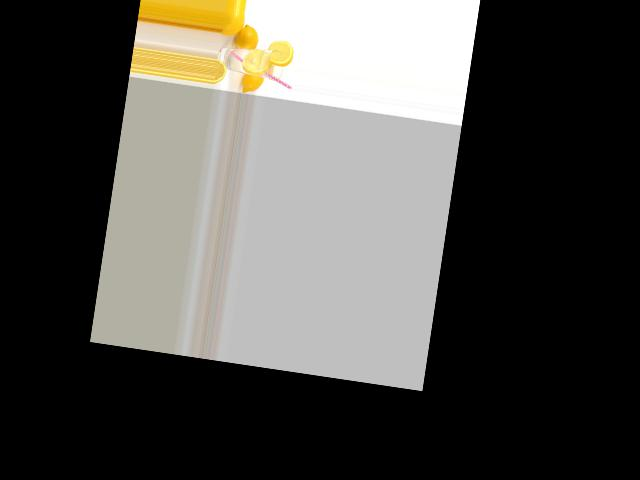lemon: (237, 67, 265, 94)
